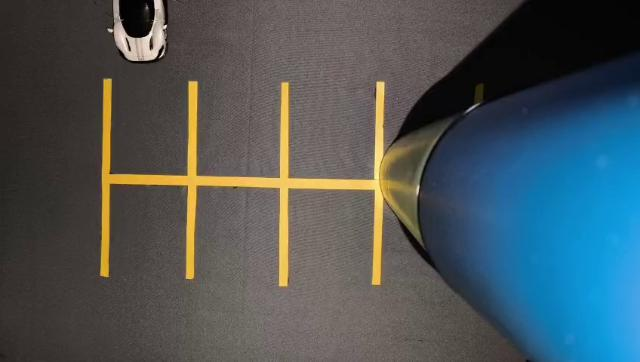toy_car: (97, 0, 200, 78)
